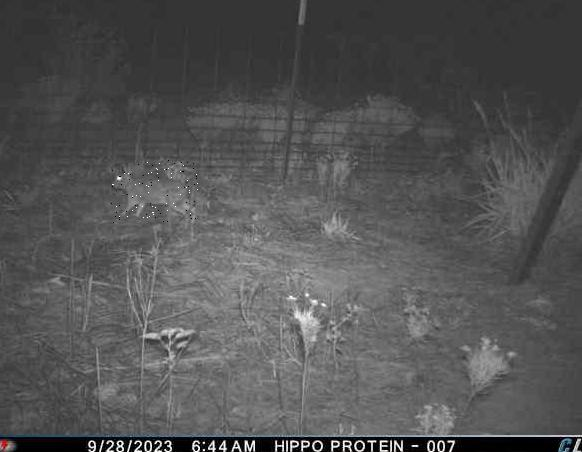Rabbit: (112, 160, 199, 223)
